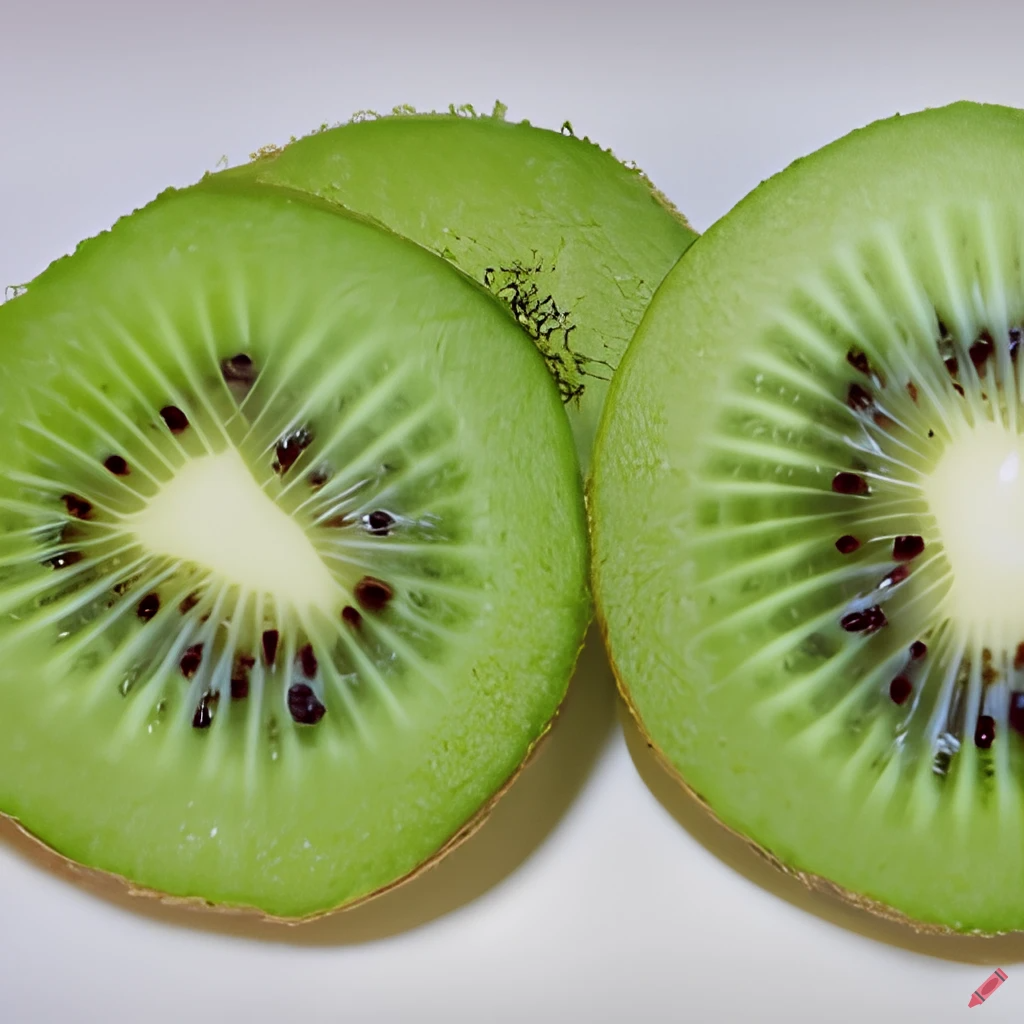Kiwi: (0, 139, 620, 950)
